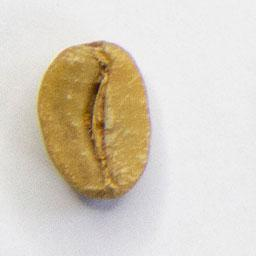defect: (34, 38, 154, 202)
